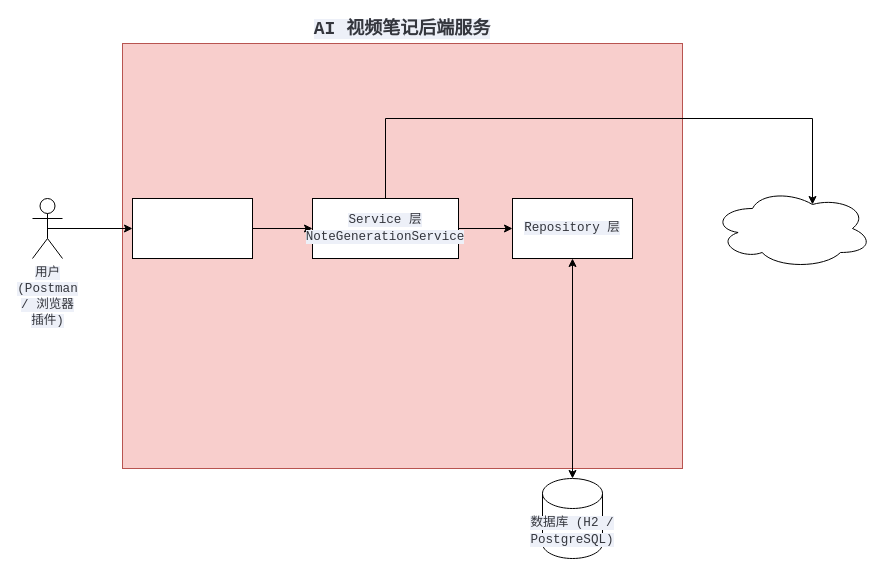
The diagram is 890 pixels wide and 576 high, and some of its shapes have lost their labels. The centre of each missing label's shape, as x and y in pixels:
"Controller 层" belongs at pixel 192 228.
"Google Gemini API" belongs at pixel 792 228.
